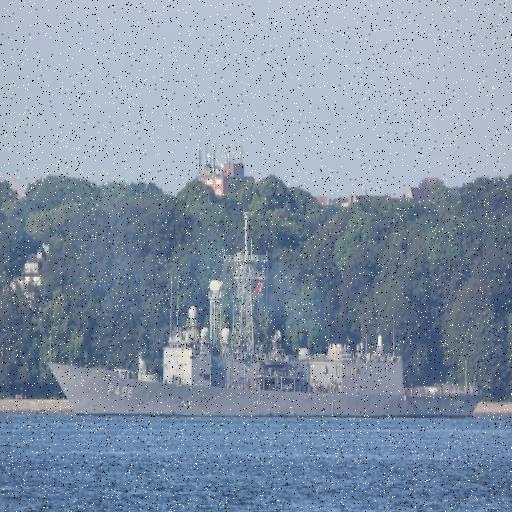Fragata: (43, 209, 491, 423)
